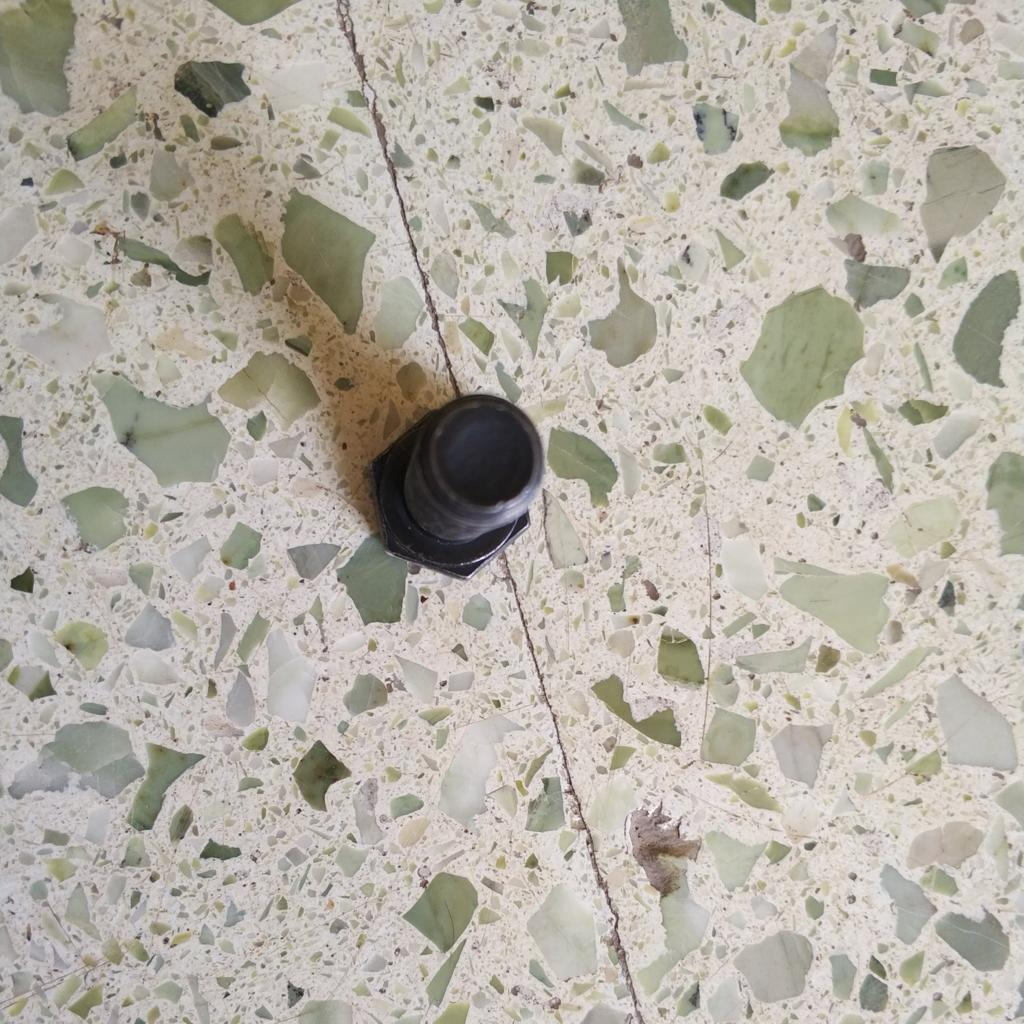screwtype2black: (345, 384, 551, 585)
